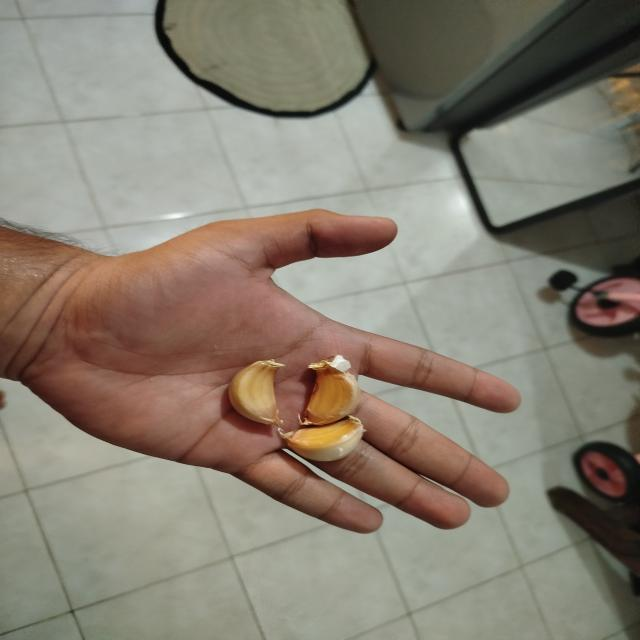garlic: (299, 354, 361, 426), (276, 415, 366, 462), (228, 358, 286, 428)
